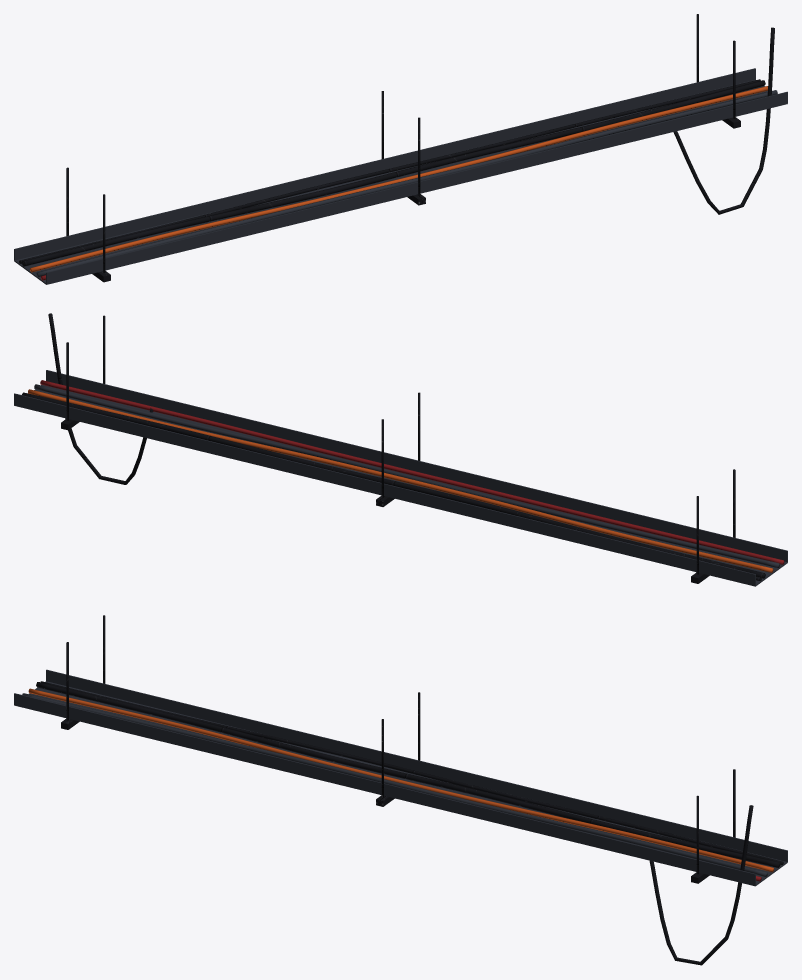
The model's file is Arch_Ceiling_CableTray_4m.gltf.
3 renders of one model, top to bottom at view 1: azimuth 30°, elevation 25°; view 2: azimuth 150°, elevation 25°; view 3: azimuth 330°, elevation 25°, orthographic.
Visible parts, largest first — view 1: Arch_Ceiling_CableTray_4m; view 2: Arch_Ceiling_CableTray_4m; view 3: Arch_Ceiling_CableTray_4m.
Part boxes in pixels (x1=…): Arch_Ceiling_CableTray_4m: x1=14, y1=14, x2=787, y2=284; Arch_Ceiling_CableTray_4m: x1=14, y1=313, x2=787, y2=586; Arch_Ceiling_CableTray_4m: x1=14, y1=615, x2=787, y2=965.
Size of the model in its own units: 4 by 0.8583 by 0.4098.
4 materials, 1 textured.
